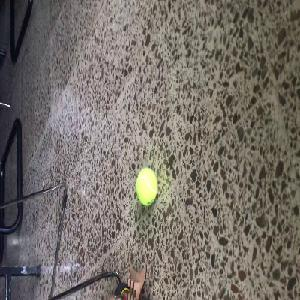Ball: (136, 168, 158, 206)
